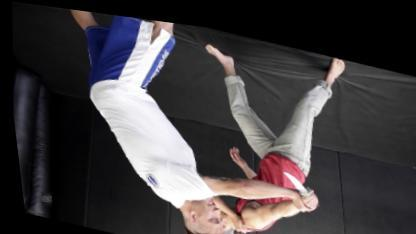knife: (274, 160, 320, 201)
